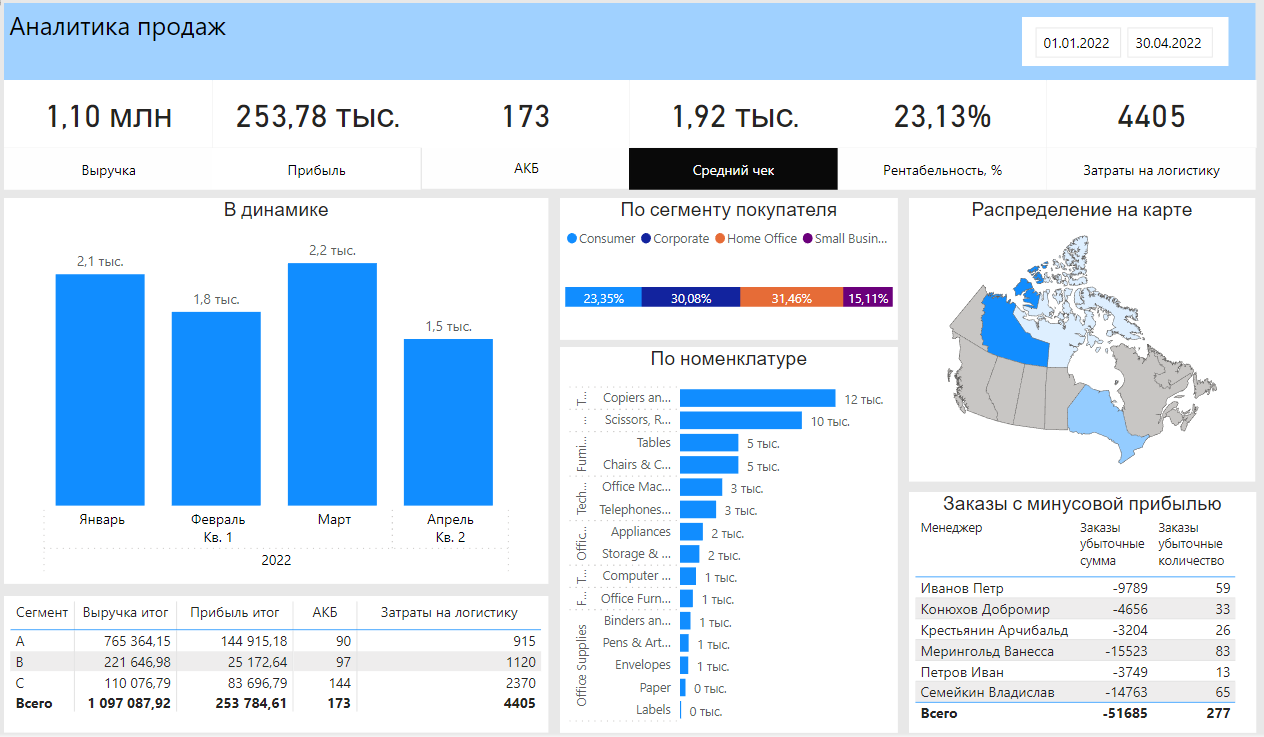

The dashboard page shown, as its layout file describes it:
{"tool":"powerbi","page":{"name":"Страница 1","canvas":[1280,720],"ordinal":0},"visuals":[{"type":"textbox","box":[38.4,20.1,1200.4,73.8],"z":0},{"type":"card","fields":{"Values":["Продажи.Выручка итог"]},"box":[38.6,94,200.1,65],"z":1000},{"type":"card","fields":{"Values":["Продажи.Прибыль итог"]},"box":[238.7,94,200.1,65],"z":2000},{"type":"card","fields":{"Values":["Продажи.АКБ"]},"box":[438.4,93.7,200,65],"z":3000},{"type":"card","fields":{"Values":["Продажи.СреднийЧек"]},"box":[638.3,93.7,200,65],"z":4000},{"type":"card","fields":{"Values":["Продажи.Рентабельность"]},"box":[838.3,93.7,200,65],"z":5000},{"type":"card","fields":{"Values":["Продажи.Затраты на логистику"]},"box":[1038.2,93.7,200.8,65],"z":6000},{"type":"actionButton","title":"Выручка выкл","box":[38.3,159.1,200.4,40.3],"z":7000},{"type":"actionButton","title":"Прибыль выкл","box":[238,159.1,200.4,40],"z":9000},{"type":"actionButton","title":"АКБ выкл","box":[438.7,158.5,200.4,39.9],"z":11000},{"type":"actionButton","title":"Рентабельность выкл","box":[838,159.1,200.4,40],"z":13000},{"type":"actionButton","title":"Средний чек вкл","box":[637.5,159.1,200.4,40.3],"z":16000},{"type":"actionButton","title":"Затраты на логистику выкл","box":[1038.3,159.1,200.4,40],"z":17000},{"type":"hundredPercentStackedBarChart","title":"По сегменту покупателя","fields":{"Series":["СПР_Покупатели.Сегмент покупателя"],"Y":["СПР_меры.Metric Selected"]},"box":[571.9,207.2,323.9,136.2],"z":19000},{"type":"columnChart","title":"В динамике","fields":{"Category":["СПР_Таблица_Дат.Год Иерархия.Год","СПР_Таблица_Дат.Год Иерархия.Квартал","СПР_Таблица_Дат.Год Иерархия.Месяц"],"Y":["СПР_меры.Metric Selected"]},"box":[37.9,207.2,522.3,369.6],"z":20000},{"type":"tableEx","fields":{"Values":["СПР_Продукты.Сегмент","Продажи.Выручка итог","Продажи.Прибыль итог","Продажи.АКБ","Продажи.Затраты на логистику"]},"box":[37.9,588.4,522.3,131.3],"z":21000},{"type":"clusteredBarChart","title":"По номенклатуре","fields":{"Y":["СПР_меры.Metric Selected"],"Category":["СПР_Продукты.Номенклатура.Категория продукта","СПР_Продукты.Номенклатура.Подкатегория продукта","СПР_Продукты.Номенклатура.Продукт"]},"box":[571.9,350.2,323.9,369.6],"z":22000},{"type":"tableEx","title":"Заказы с минусовой прибылью","fields":{"Values":["СПР_Менеджеры.Менеджер","Продажи.Прибыль заказа","Продажи.Заказы убыточные количество"]},"box":[906.1,489,332.7,231.1],"z":23000},{"type":"shapeMap","title":"Распределение на карте","fields":{"Category":["Продажи.Регион"],"Value":["СПР_меры.Metric Selected"]},"box":[906.1,207.1,331.7,272.3],"z":24000},{"type":"actionButton","box":[0,0,100,40],"z":25000},{"type":"slicer","fields":{"Values":["СПР_Таблица_Дат.Date"]},"box":[1014.4,33.6,198.5,47],"z":26000}]}

Visuals, with their boxes on the page's 1280x720 design canvas (x1, y1, x2, y2). These are canvas units, not pixel positions in the 1264x737 screenshot, which may show the page scaled, cropped or inside an application window:
textbox: detection(38, 20, 1239, 94)
card - Продажи.Выручка итог: detection(39, 94, 239, 159)
card - Продажи.Прибыль итог: detection(239, 94, 439, 159)
card - Продажи.АКБ: detection(438, 94, 638, 159)
card - Продажи.СреднийЧек: detection(638, 94, 838, 159)
card - Продажи.Рентабельность: detection(838, 94, 1038, 159)
card - Продажи.Затраты на логистику: detection(1038, 94, 1239, 159)
"Выручка выкл" actionButton: detection(38, 159, 239, 199)
"Прибыль выкл" actionButton: detection(238, 159, 438, 199)
"АКБ выкл" actionButton: detection(439, 158, 639, 198)
"Рентабельность выкл" actionButton: detection(838, 159, 1038, 199)
"Средний чек вкл" actionButton: detection(638, 159, 838, 199)
"Затраты на логистику выкл" actionButton: detection(1038, 159, 1239, 199)
"По сегменту покупателя" hundredPercentStackedBarChart: detection(572, 207, 896, 343)
"В динамике" columnChart: detection(38, 207, 560, 577)
tableEx - СПР_Продукты.Сегмент x Продажи.Выручка итог: detection(38, 588, 560, 720)
"По номенклатуре" clusteredBarChart: detection(572, 350, 896, 720)
"Заказы с минусовой прибылью" tableEx: detection(906, 489, 1239, 720)
"Распределение на карте" shapeMap: detection(906, 207, 1238, 479)
actionButton: detection(0, 0, 100, 40)
slicer - СПР_Таблица_Дат.Date: detection(1014, 34, 1213, 81)
